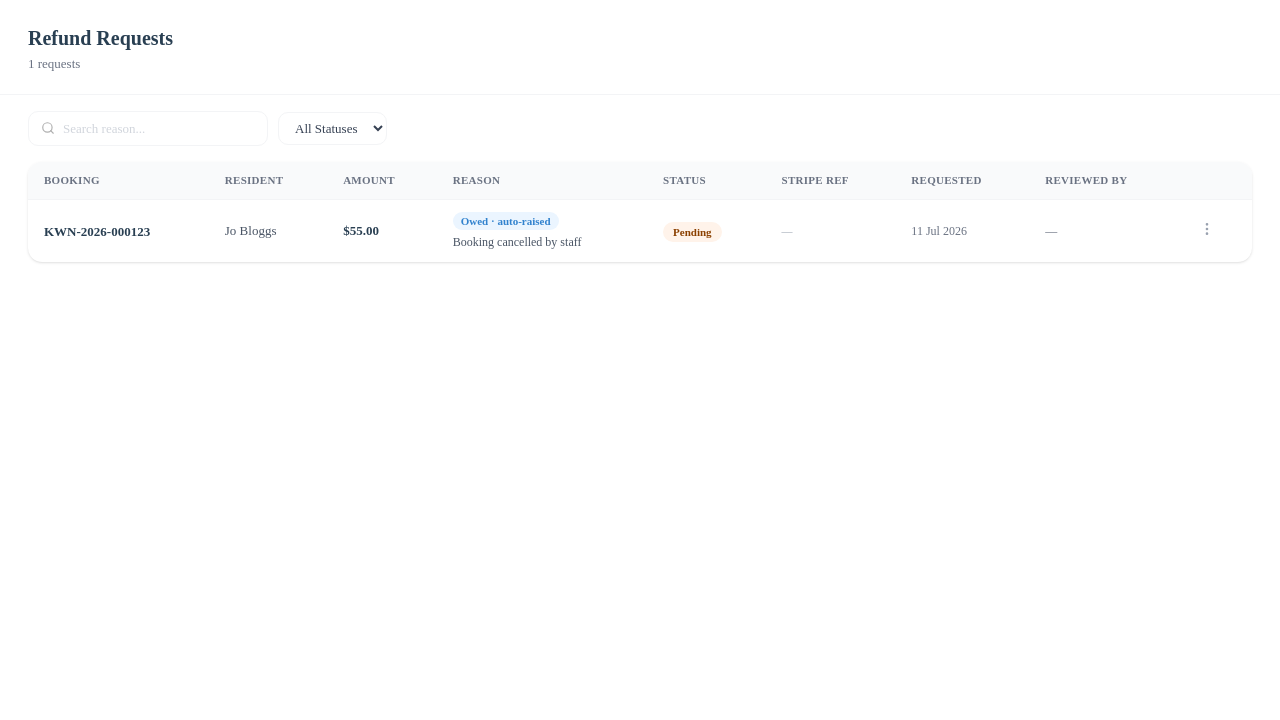
Test case: RefundsClient — reject confirm gate › surfaces "already actioned" when the Pending-guarded reject matches zero rows
Expected: the text "Owed · auto-raised" is shown, [453, 212, 558, 230]
Click the button named "Open actions menu".
click(1207, 229)  # box [1195, 217, 1219, 241]
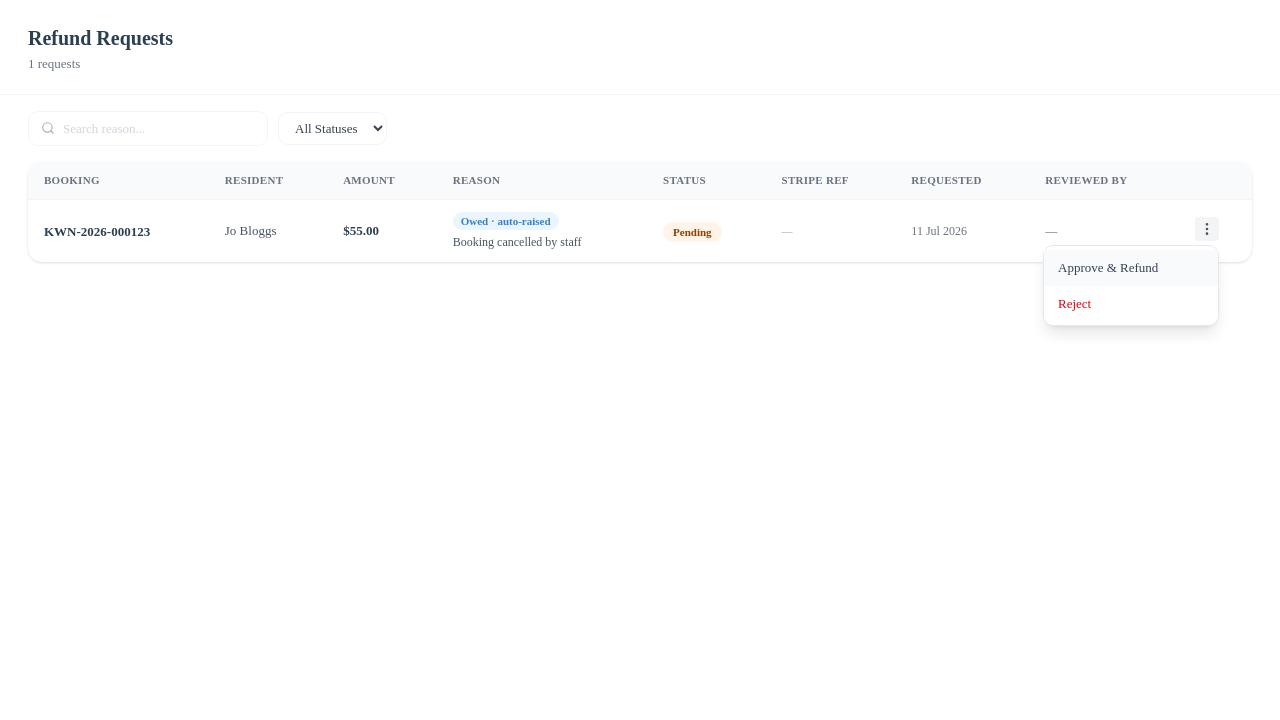
Click the menu item "Reject".
click(1075, 303)  # box [1058, 296, 1091, 310]
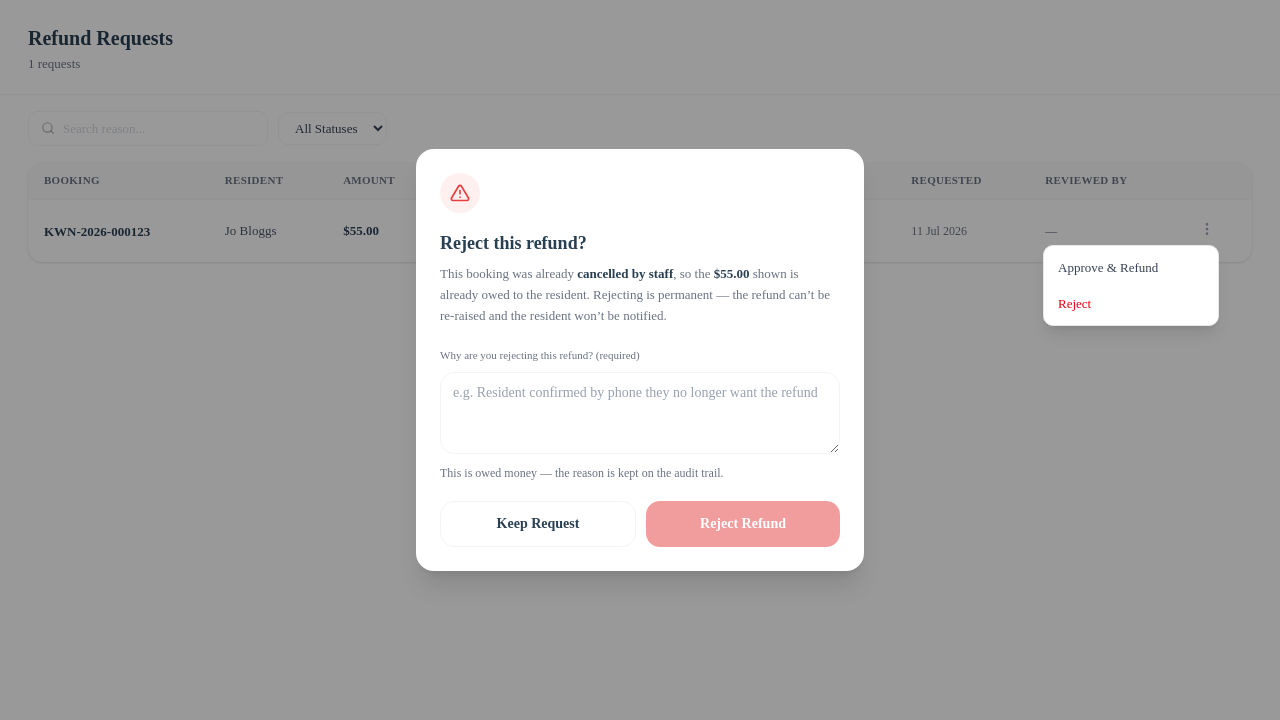
Replace the text in the text box labelled "Why are you rejecting" with "Already refunded manually" at (640, 413), box [440, 372, 840, 454]
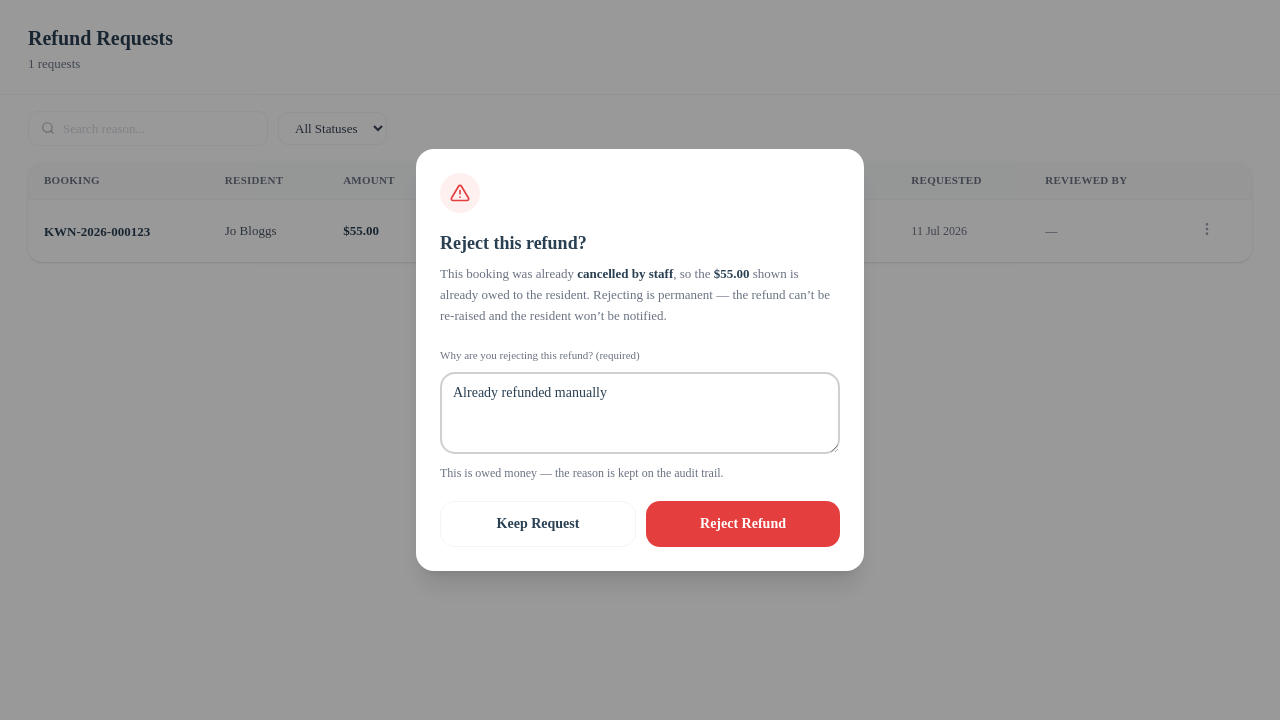
Click the button "Reject Refund".
click(743, 524)  # box [646, 501, 840, 547]
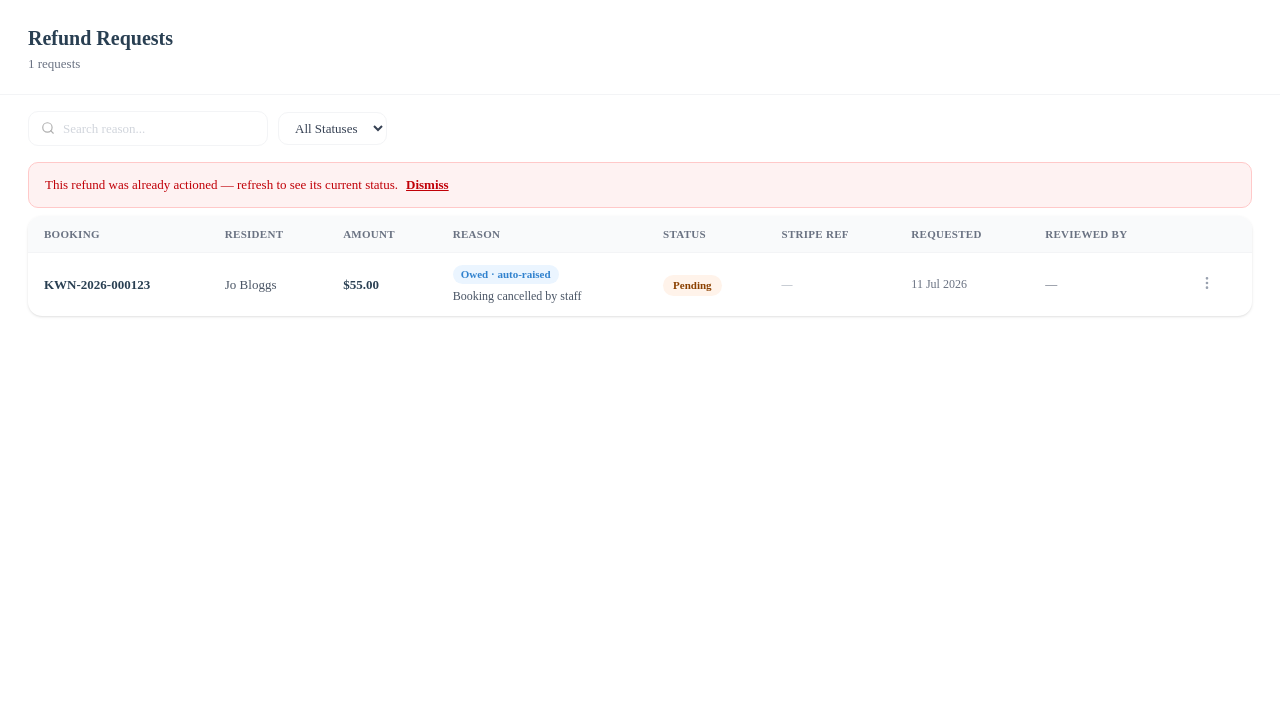
Result: the text "This refund was already actioned — refresh to see its current status. Dismiss" is shown at [28, 162, 1252, 208]
